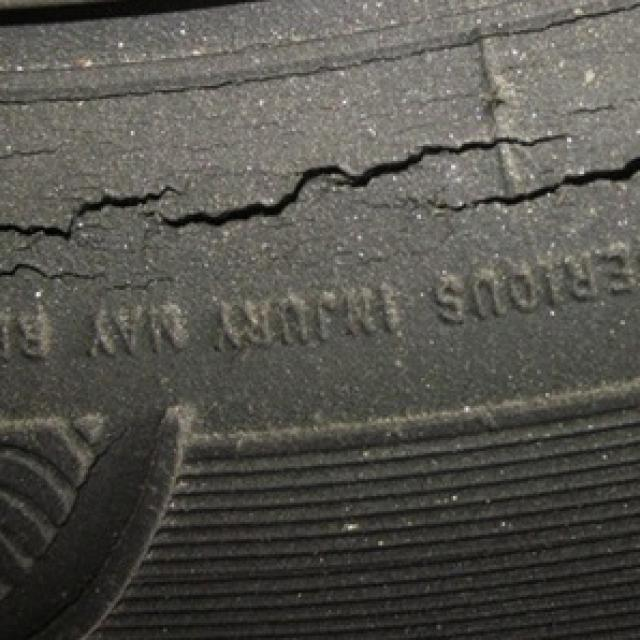Cracks: (0, 67, 640, 309)
